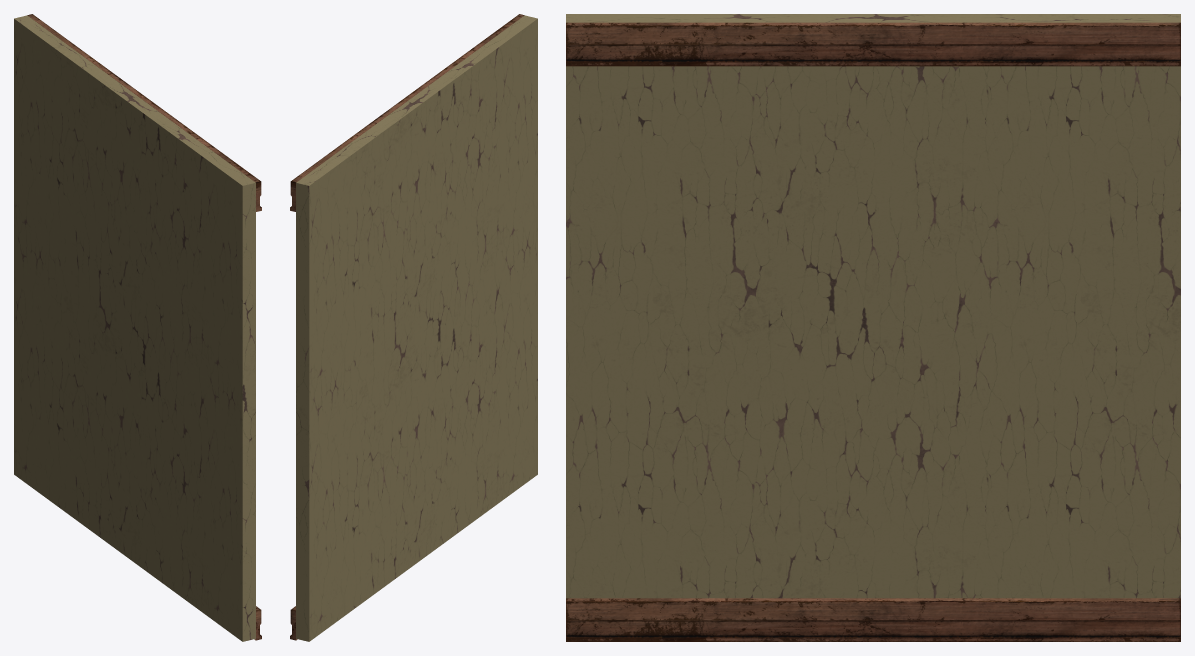
File: Wall_3m_C.fbx
3 views of the same model, side by side, from view 1: azimuth 30°, elevation 25°; view 2: azimuth 150°, elevation 25°; view 3: azimuth 270°, elevation 25° (orthographic). The views are drawn at different scales.
Visible parts, largest first — view 1: Wall_3m_A.001; view 2: Wall_3m_A.001; view 3: Wall_3m_A.001.
Boxes of the visible parts, x1,y1,x2,y2 form: Wall_3m_A.001: (14,14,261,641); Wall_3m_A.001: (290,14,537,641); Wall_3m_A.001: (566,14,1180,641).
Size of the model in its own units: 0.1458 by 3.31 by 3.
